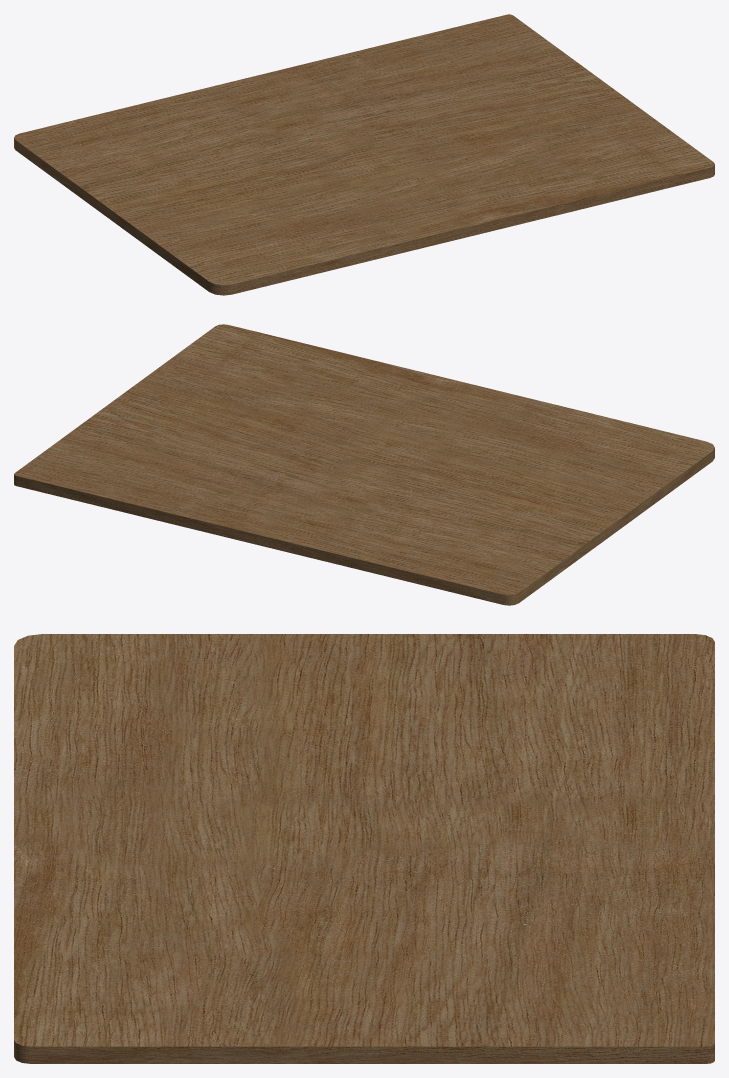
File: panel.glb
The picture shows the model from 3 angles, top to bottom: view 1: azimuth 30°, elevation 25°; view 2: azimuth 150°, elevation 25°; view 3: azimuth 270°, elevation 25°; orthographic projection. The views are drawn at different scales.
Visible parts, largest first — view 1: Cube_1; view 2: Cube_1; view 3: Cube_1.
Boxes of the visible parts, box(x1,y1,x2,y2) form: Cube_1: box(14, 14, 714, 295); Cube_1: box(14, 324, 714, 605); Cube_1: box(14, 634, 714, 1063).
Size of the model in its own units: 1.33 by 0.026 by 0.9554.
Materials: 1 (1 with a texture image).
